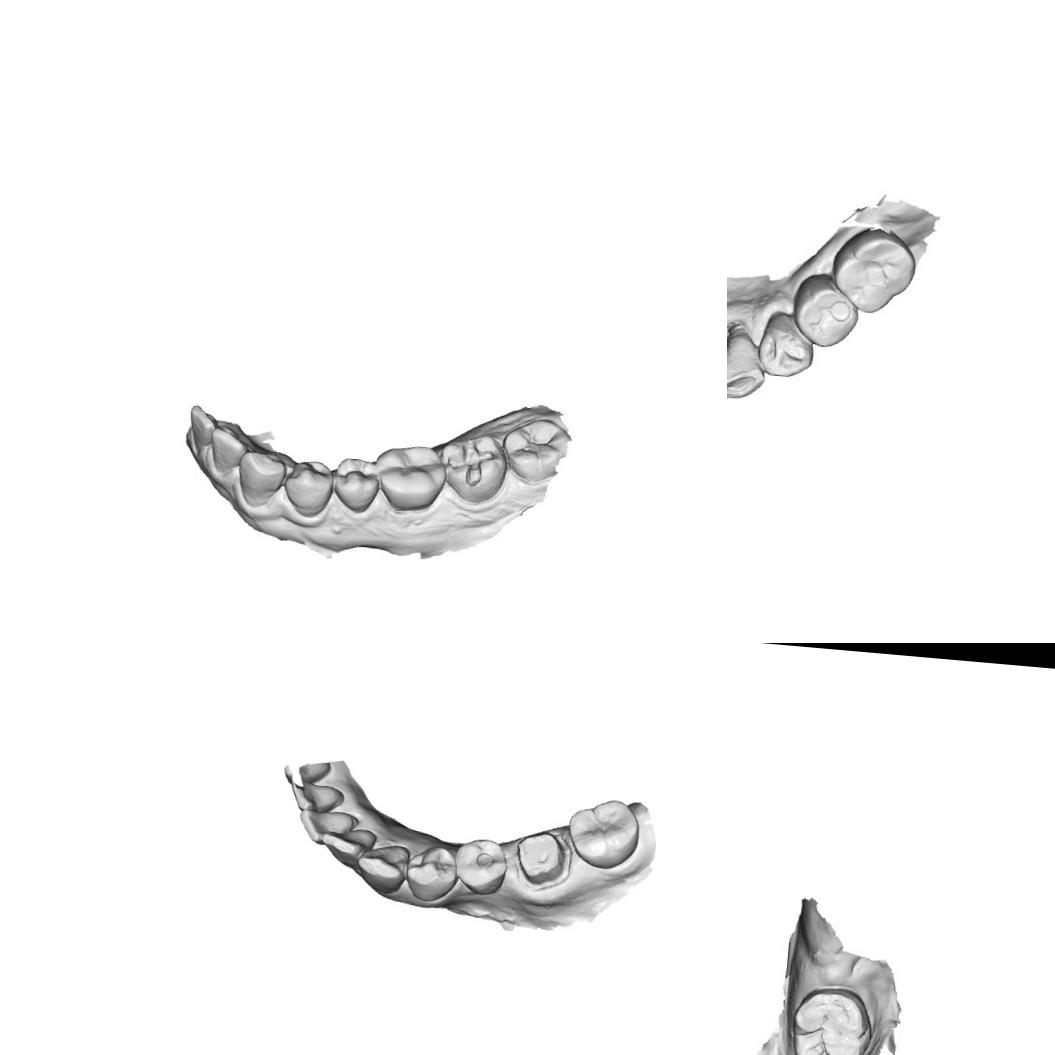canine: (279, 454, 338, 520), (727, 322, 766, 402), (354, 840, 410, 894)
crown: (511, 827, 569, 889)
incisor: (233, 445, 288, 510), (318, 824, 378, 868), (205, 424, 251, 476), (296, 806, 354, 846), (184, 401, 224, 455), (287, 778, 344, 814), (280, 757, 331, 790)
inlay: (445, 434, 501, 490)
molar: (832, 224, 922, 320), (563, 793, 642, 872), (785, 985, 874, 1055), (369, 440, 449, 516), (496, 412, 570, 486)
premolar: (786, 268, 864, 353), (753, 305, 819, 380), (450, 834, 510, 898), (328, 453, 385, 517), (402, 842, 459, 904)
